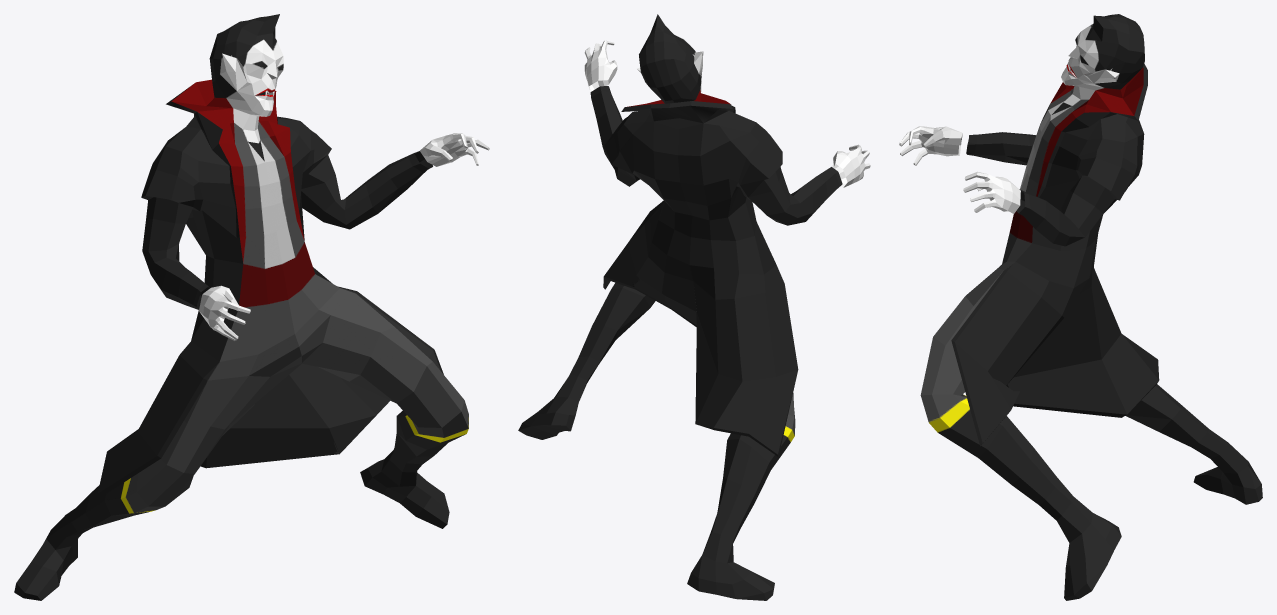
The model's file is VampireAttack(16).obj.
3 views of the same model, side by side, from view 1: azimuth 30°, elevation 25°; view 2: azimuth 150°, elevation 25°; view 3: azimuth 270°, elevation 25° (orthographic). The views are drawn at different scales.
Visible parts, largest first — view 1: Plane002; view 2: Plane002; view 3: Plane002.
Boxes of the visible parts, left/top/right/bottom form: Plane002: left=14, top=14, right=489, bottom=600; Plane002: left=518, top=14, right=870, bottom=600; Plane002: left=899, top=14, right=1262, bottom=600.
Bounding box in the file's own units: 193 × 299 × 178.
